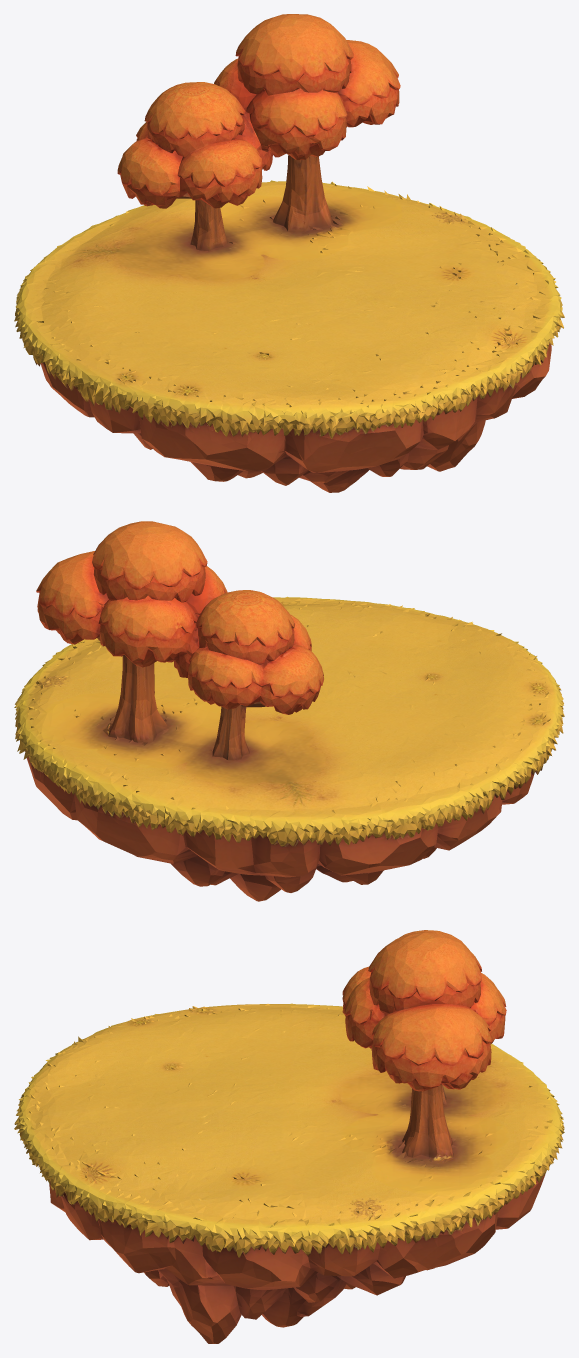
The model's file is TERRAIN_3_autumn.glb.
3 views of the same model, one above another, from view 1: azimuth 30°, elevation 25°; view 2: azimuth 150°, elevation 25°; view 3: azimuth 270°, elevation 25° (orthographic).
Visible parts, largest first — view 1: tripo_node_38514738-a5f7-4c76-987d-62f2f8f0b339; view 2: tripo_node_38514738-a5f7-4c76-987d-62f2f8f0b339; view 3: tripo_node_38514738-a5f7-4c76-987d-62f2f8f0b339.
Boxes of the visible parts, <box> form: tripo_node_38514738-a5f7-4c76-987d-62f2f8f0b339: <box>14,14,564,492</box>; tripo_node_38514738-a5f7-4c76-987d-62f2f8f0b339: <box>14,521,564,901</box>; tripo_node_38514738-a5f7-4c76-987d-62f2f8f0b339: <box>14,930,564,1343</box>.
Bounding box in the file's own units: 9 × 7 × 9.
1 material, 1 textured.
